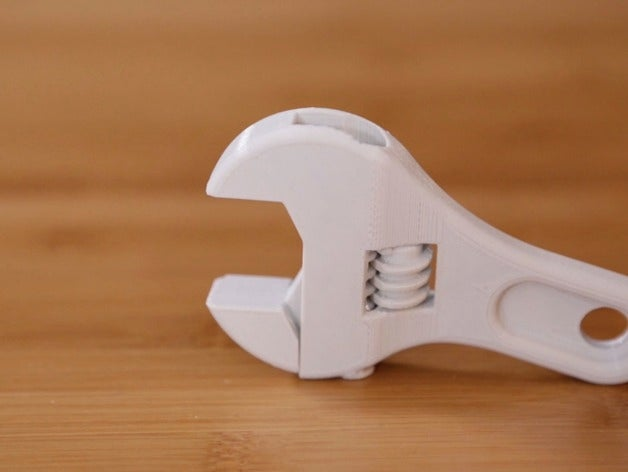Good: (181, 96, 628, 415)
